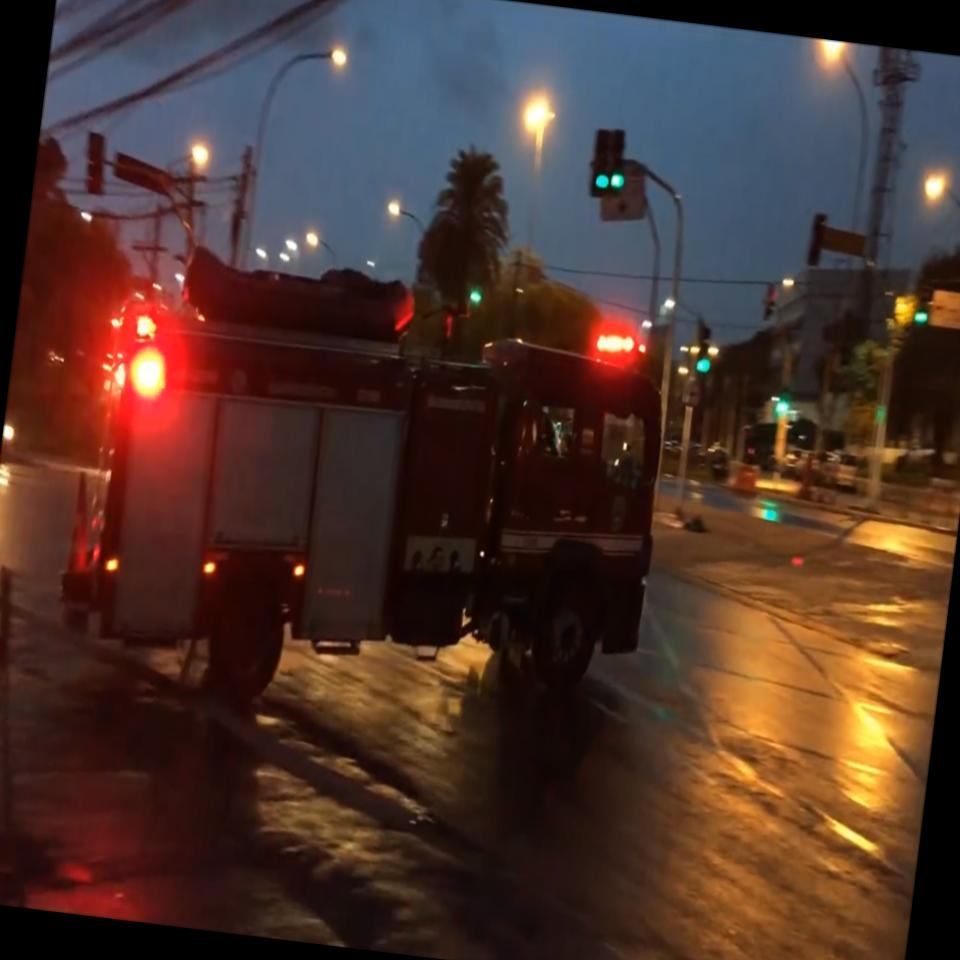viatura: (49, 236, 684, 751)
